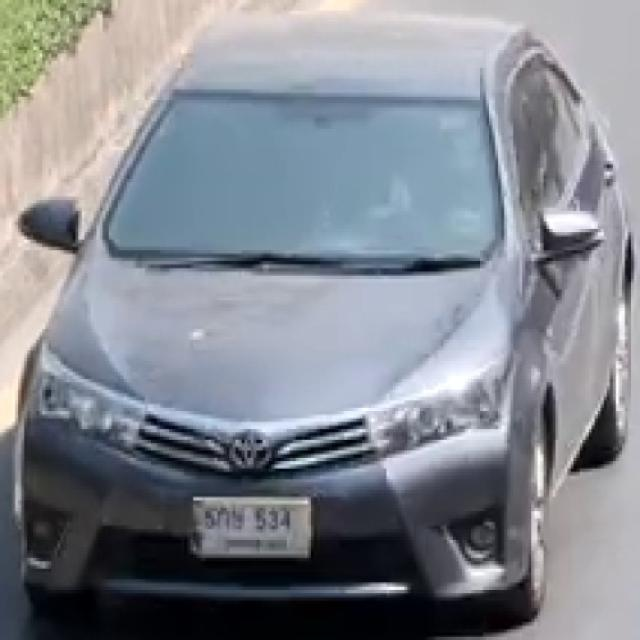plate: (194, 496, 310, 558)
